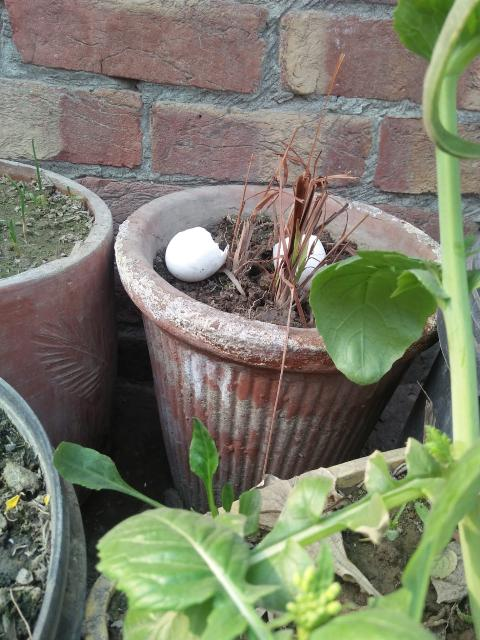Roto: (164, 225, 229, 282), (272, 232, 327, 292)
